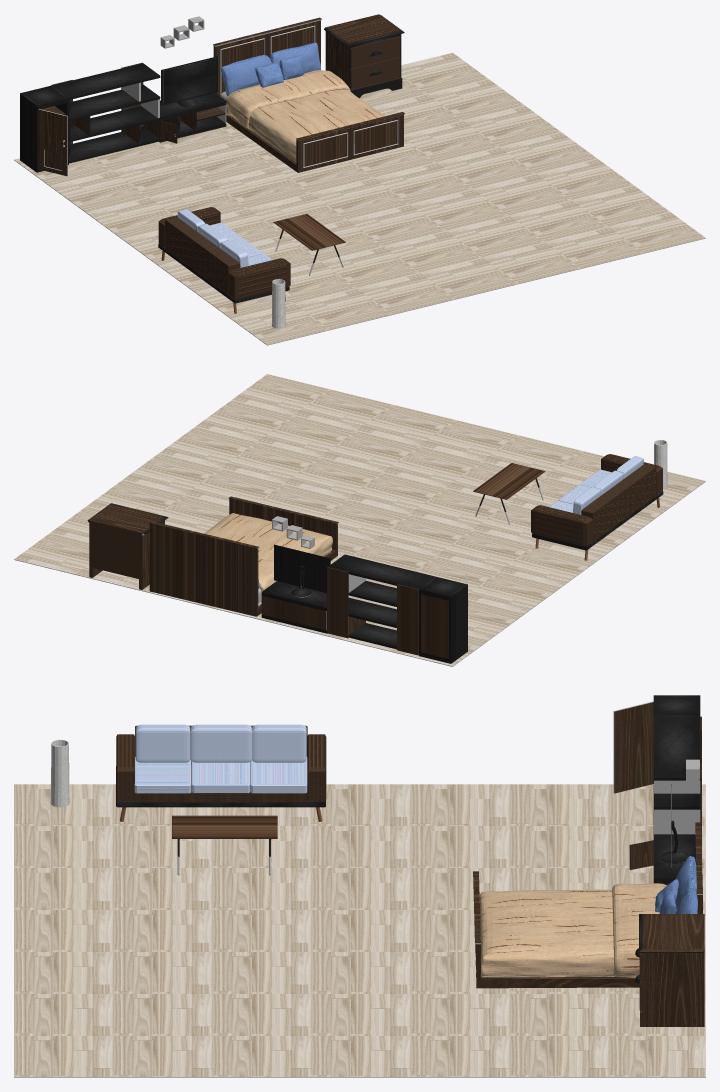
File: T1 Set 2 Pos 1.glb
3 renders of one model, top to bottom at view 1: azimuth 30°, elevation 25°; view 2: azimuth 150°, elevation 25°; view 3: azimuth 270°, elevation 25°, orthographic. The views are drawn at different scales.
Bounding box in the file's own units: 0.3828 × 0.0846 × 0.3827.
10 materials, 9 textured.
